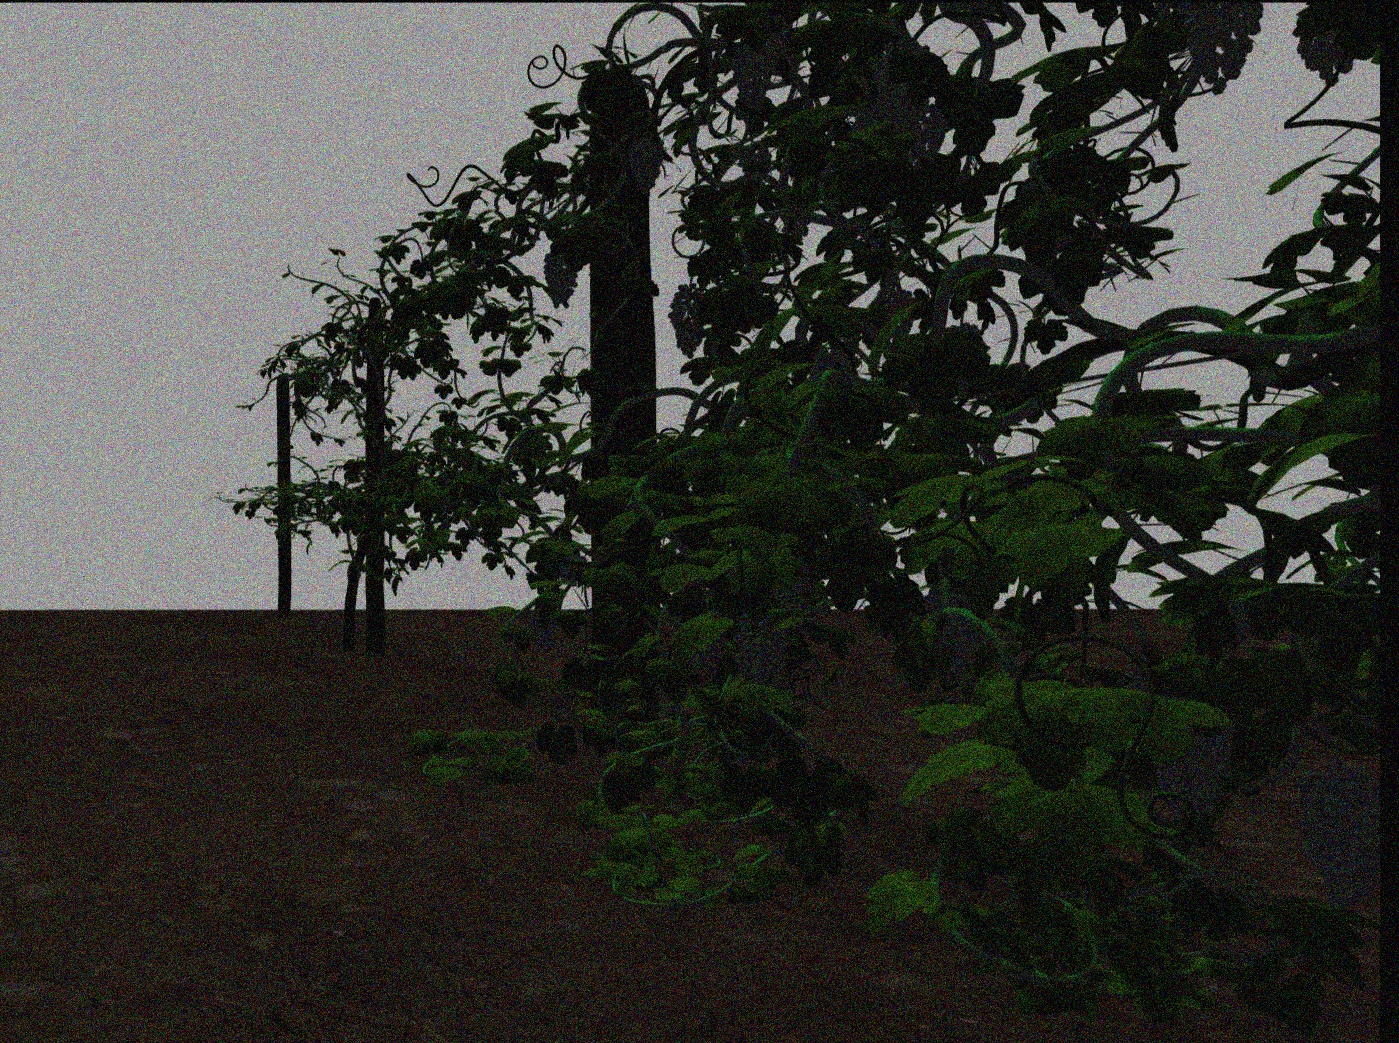grape: (1291, 763, 1373, 910), (1150, 721, 1237, 821), (1178, 5, 1266, 93), (871, 41, 931, 129), (733, 617, 789, 687), (731, 37, 775, 114), (934, 614, 978, 683), (667, 283, 706, 359), (541, 244, 578, 308), (627, 133, 664, 195), (687, 629, 729, 683), (527, 608, 557, 652)
